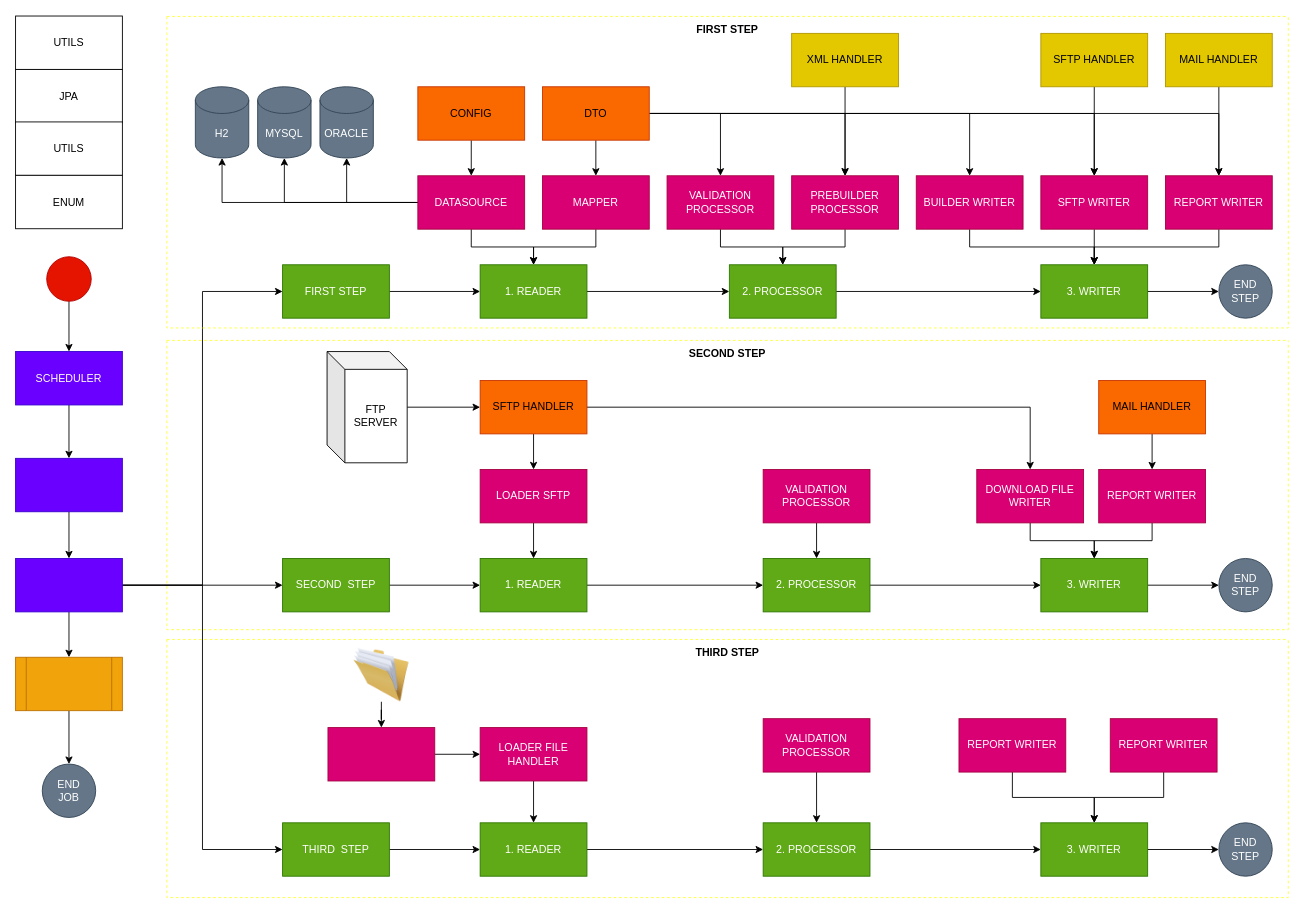
This 1304x913 diagram has some shape labels left out. The box of each missing label's shape, as (x1, y1, x2, y2) in pixels:
AFTER ALL STEPS ARE PROCESSED: (15, 656, 122, 711)
FILE HANDLER: (327, 727, 435, 781)
JOB CONFIG: (15, 558, 122, 612)
JOB QUARTZ: (15, 457, 122, 512)
START: (46, 256, 91, 301)
